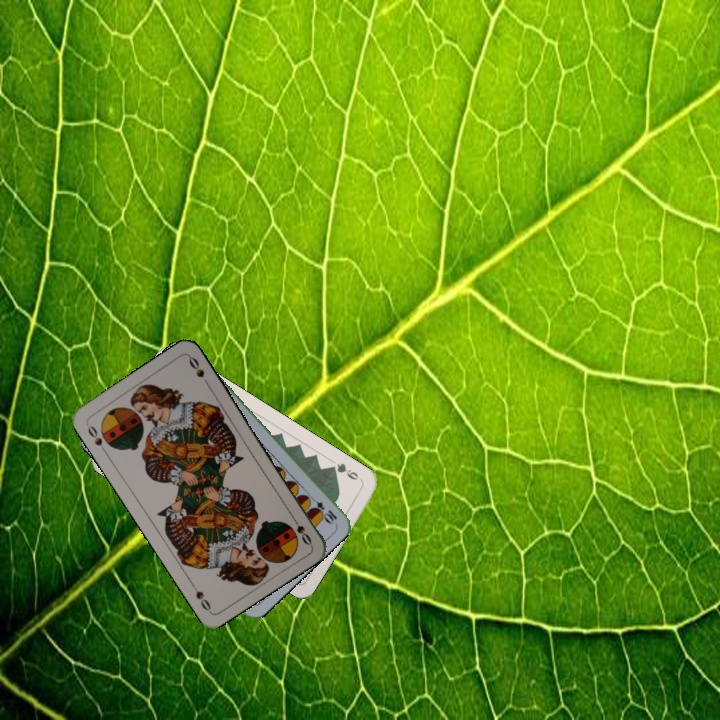E10: (305, 492, 340, 526)
G9: (326, 459, 365, 484)
SO: (287, 511, 314, 548), (82, 419, 109, 456)
